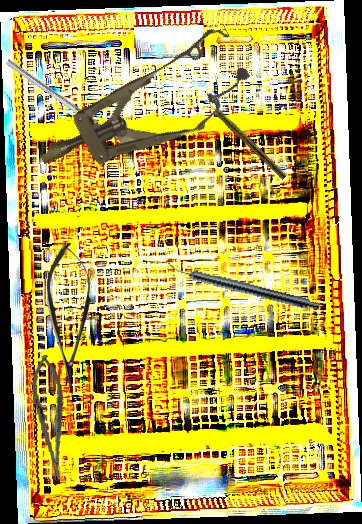Handpiece: (165, 260, 322, 313), (205, 98, 289, 181)
Micro Scissor: (47, 243, 91, 386)
Needle Holder: (28, 353, 72, 483)
Spatula Surgical: (5, 53, 139, 153)
Speculum: (22, 18, 262, 201)
